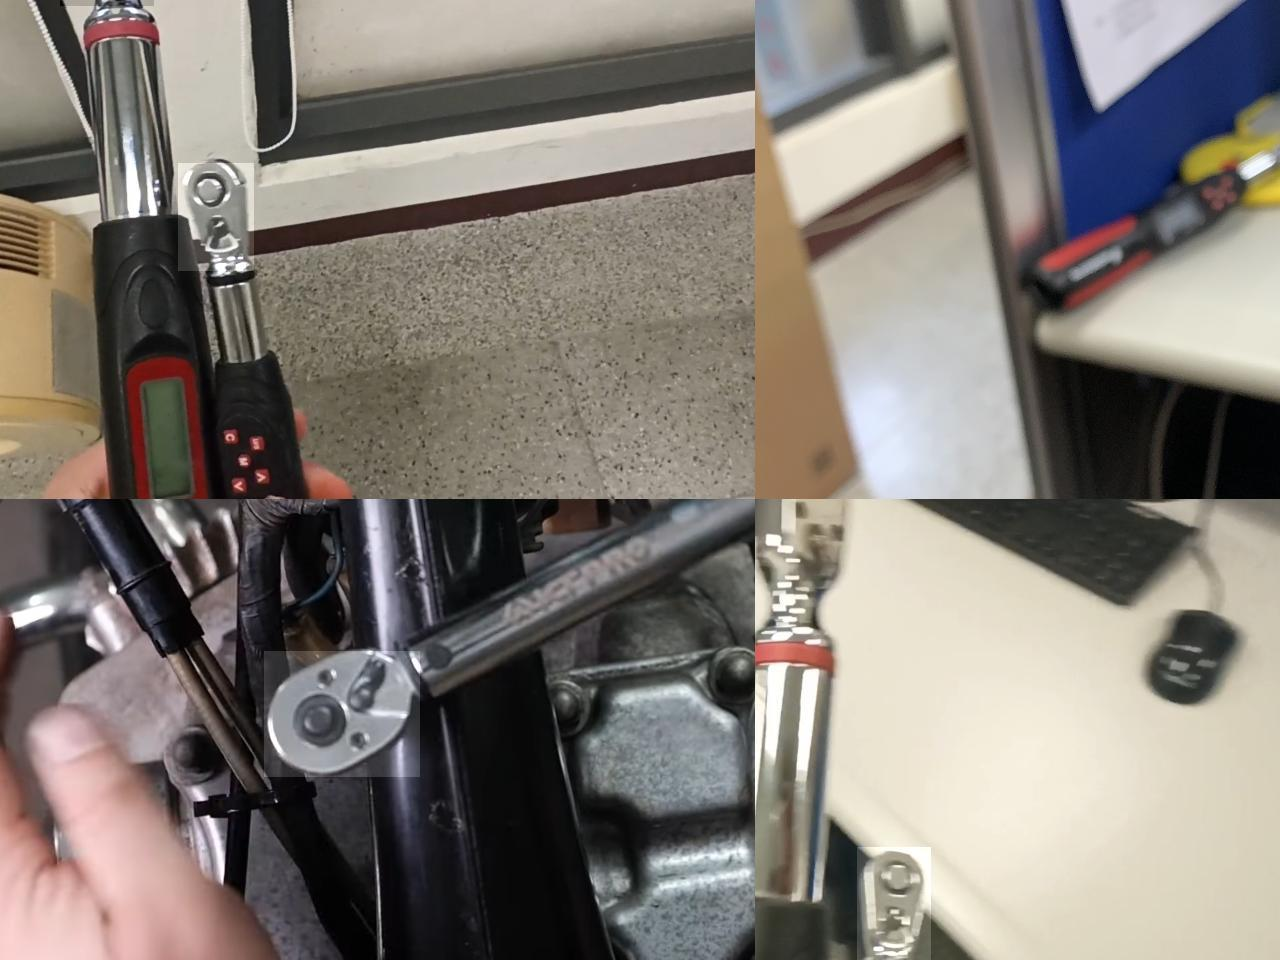Tool: (263, 650, 419, 776), (856, 846, 930, 960), (177, 162, 253, 270)
